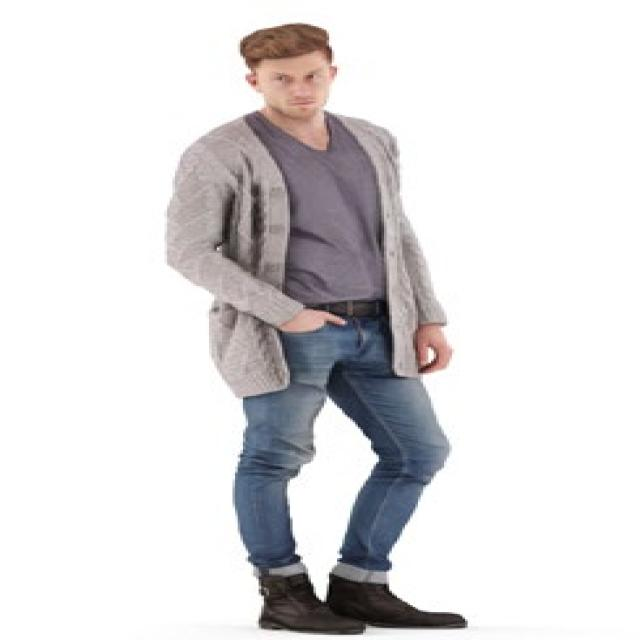standing: (160, 19, 474, 640)
